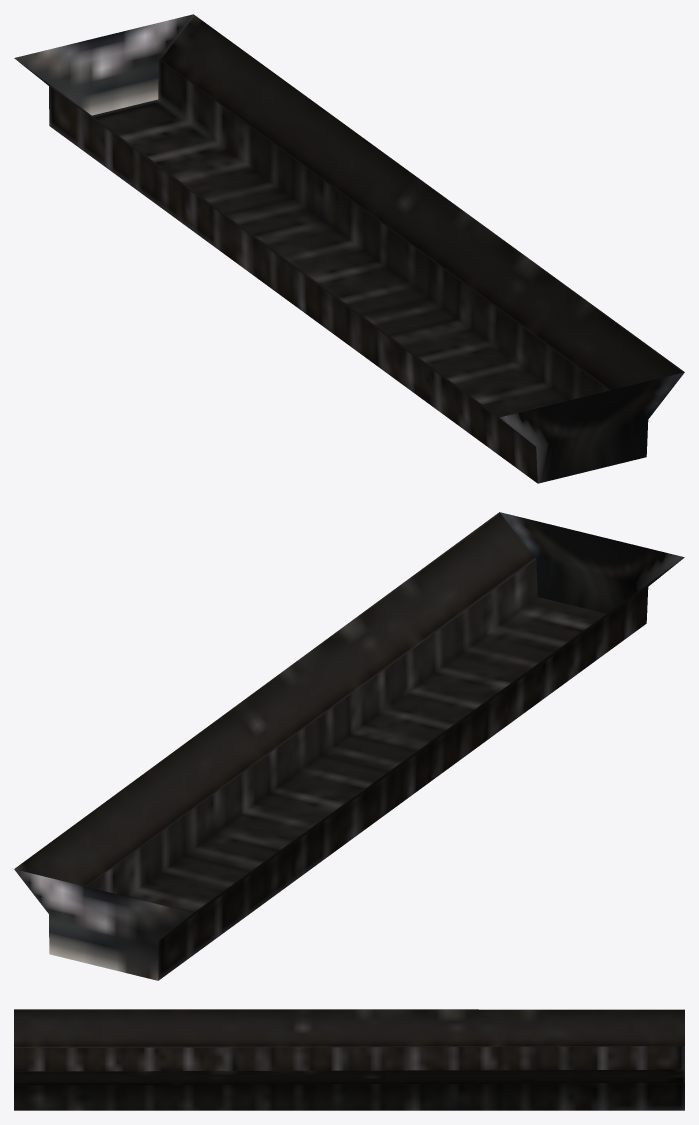
Rendered from RIS.fbx.
3 views of the same model, one above another, from view 1: azimuth 30°, elevation 25°; view 2: azimuth 150°, elevation 25°; view 3: azimuth 270°, elevation 25° (orthographic). The views are drawn at different scales.
Parts seen in each view (by area): view 1: RIS; view 2: RIS; view 3: RIS.
Part boxes in pixels (left/top/right/bottom): RIS: left=14, top=14, right=684, bottom=483; RIS: left=14, top=512, right=684, bottom=980; RIS: left=14, top=1009, right=684, bottom=1110.
Size of the model in its own units: 0.0216 by 0.0984 by 0.00853.
